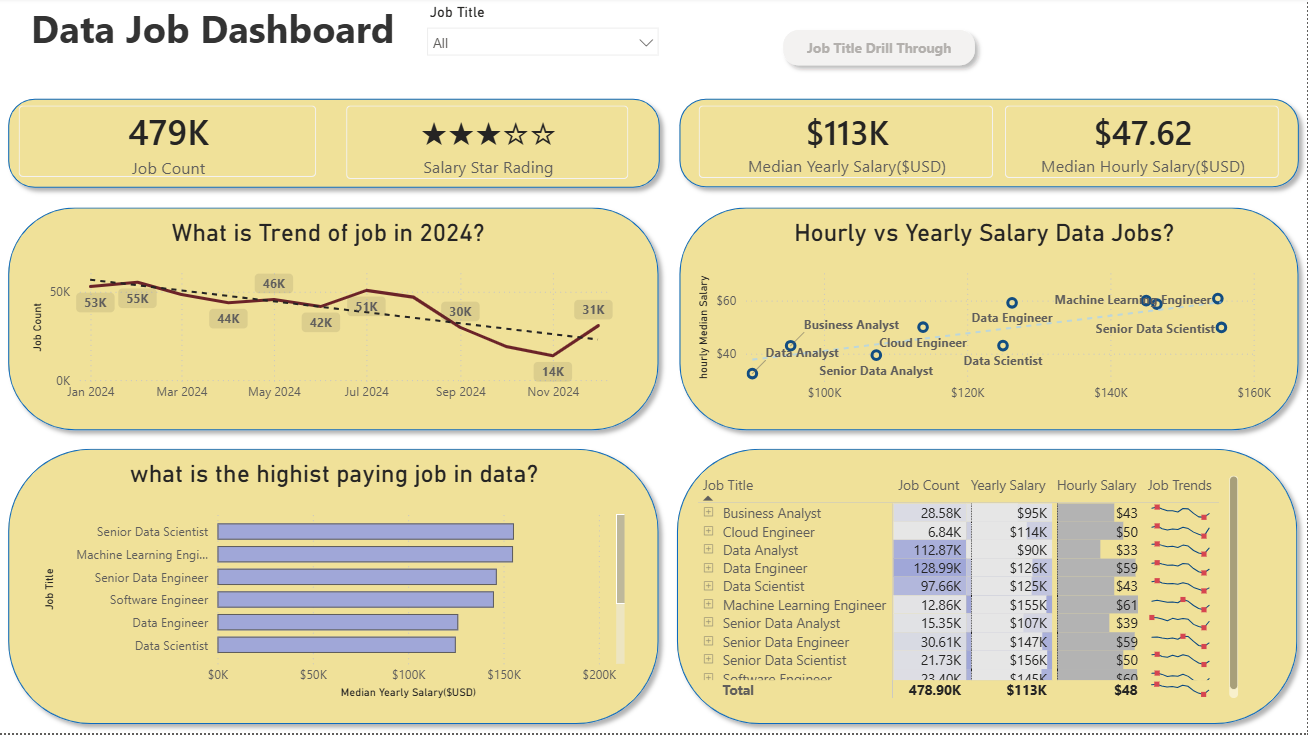

Layout of this report page (visuals, bound fields, positions):
{"tool":"powerbi","page":{"name":"Data Job Dashbord","canvas":[1280,720],"ordinal":0},"visuals":[{"type":"group","id":"g1","title":"background","box":[0,90.5,1280.3,629.2],"z":0},{"type":"shape","box":[0,90.5,655.4,105.2],"z":0,"group":"g1"},{"type":"textbox","box":[9.8,0,398.6,90.5],"z":1000},{"type":"shape","box":[656.1,90.7,623.9,104.7],"z":1000,"group":"g1"},{"type":"slicer","fields":{"Values":["job_postings_flat.job_title_short"]},"box":[408.4,1.2,247,89.3],"z":2000},{"type":"shape","box":[0,196.3,654.2,236],"z":2000,"group":"g1"},{"type":"cardVisual","fields":{"Data":["CountNonNull(job_postings_flat.job_title_short)"]},"box":[2.4,89.3,325.2,104.7],"z":3000},{"type":"shape","box":[656.7,196.3,623.6,236],"z":3000,"group":"g1"},{"type":"cardVisual","fields":{"Data":["job_postings_flat.Salary Star Rading"]},"box":[322.8,89.3,310.6,106.4],"z":4000},{"type":"shape","box":[654.2,432.3,624.9,287.4],"z":4000,"group":"g1"},{"type":"cardVisual","fields":{"Data":["Median(job_postings_flat.salary_year_avg)"]},"box":[667.7,89.3,322.8,105.2],"z":5000},{"type":"shape","box":[0,432.3,654.2,287.4],"z":5000,"group":"g1"},{"type":"cardVisual","fields":{"Data":["Median(job_postings_flat.salary_hour_avg)"]},"box":[967.3,89.3,302,105.2],"z":6000},{"type":"lineChart","title":"What is Trend of job in 2024?","fields":{"Category":["job_postings_flat.job_posted_date.Variation.Date Hierarchy.Year","job_postings_flat.job_posted_date.Variation.Date Hierarchy.Quarter","job_postings_flat.job_posted_date.Variation.Date Hierarchy.Month","job_postings_flat.job_posted_date.Variation.Date Hierarchy.Day"],"Y":["CountNonNull(job_postings_flat.job_title_short)"]},"box":[26.9,216.4,590.6,188.3],"z":7000},{"type":"barChart","title":"what is the highist paying job in data?","fields":{"Category":["job_postings_flat.job_title_short"],"Y":["Median(job_postings_flat.salary_year_avg)"]},"box":[39.1,452.3,577.9,238.7],"z":8000},{"type":"scatterChart","title":"Hourly vs Yearly Salary Data Jobs?","fields":{"X":["Median(job_postings_flat.salary_year_avg)"],"Y":["Median(job_postings_flat.salary_hour_avg)"],"Series":["job_postings_flat.job_title_short"]},"box":[678.4,216.4,570.9,188.4],"z":9000},{"type":"pivotTable","fields":{"Rows":["job_postings_flat.job_title_short","job_postings_flat.job_posted_date.Variation.Date Hierarchy.Quarter"],"Values":["CountNonNull(job_postings_flat.job_title_short)","Median(job_postings_flat.salary_year_avg)","Median(job_postings_flat.salary_hour_avg)","SparklineData(CountNonNull(job_postings_flat.job_title_short)_[job_postings_flat.job_posted_date.Variation.Date Hierarch"]},"box":[678.4,463.4,538.8,227.5],"z":10000},{"type":"actionButton","title":"Job Title Drill Through","box":[758.2,23.2,205.4,52.6],"z":11000}]}

Visuals, with their boxes in screenshot pixels (x1, y1, x2, y2), scaled from the page's 1280x720 canvas onto the 1308x735 screenshot:
"background" group: box(0, 92, 1307, 734)
shape: box(0, 92, 670, 200)
textbox: box(10, 0, 417, 92)
shape: box(670, 93, 1307, 199)
slicer - job_postings_flat.job_title_short: box(417, 1, 670, 92)
shape: box(0, 200, 669, 441)
cardVisual - CountNonNull(job_postings_flat.job_title_short): box(2, 91, 335, 198)
shape: box(671, 200, 1307, 441)
cardVisual - job_postings_flat.Salary Star Rading: box(330, 91, 647, 200)
shape: box(669, 441, 1307, 734)
cardVisual - Median(job_postings_flat.salary_year_avg): box(682, 91, 1012, 199)
shape: box(0, 441, 669, 734)
cardVisual - Median(job_postings_flat.salary_hour_avg): box(988, 91, 1297, 199)
"What is Trend of job in 2024?" lineChart: box(27, 221, 631, 413)
"what is the highist paying job in data?" barChart: box(40, 462, 630, 705)
"Hourly vs Yearly Salary Data Jobs?" scatterChart: box(693, 221, 1277, 413)
pivotTable - job_postings_flat.job_title_short x job_postings_flat.job_posted_date.Variation.Date Hierarchy.Quarter: box(693, 473, 1244, 705)
"Job Title Drill Through" actionButton: box(775, 24, 985, 77)
